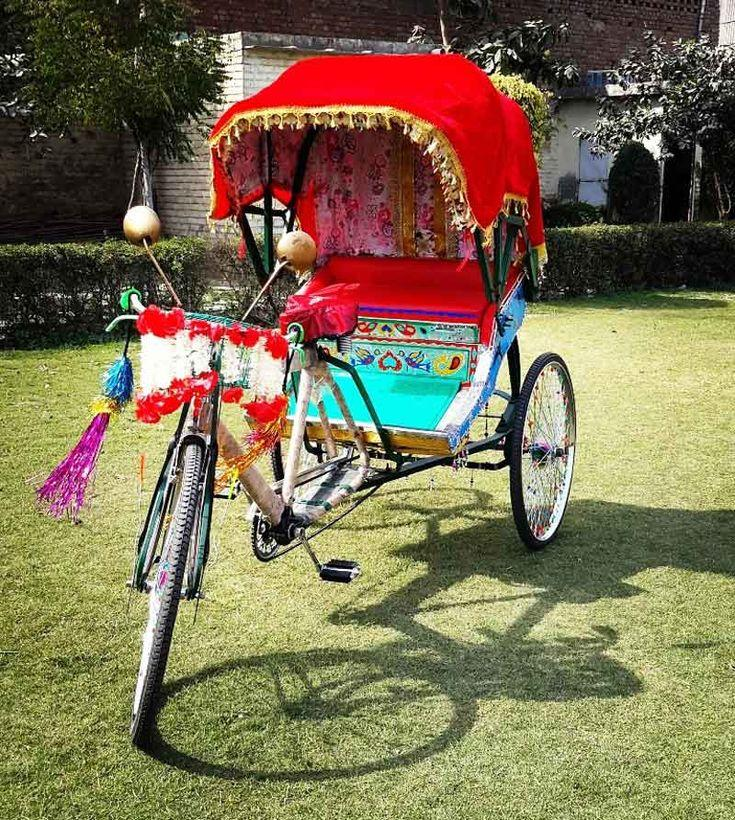Rickshaw: (125, 55, 574, 744)
